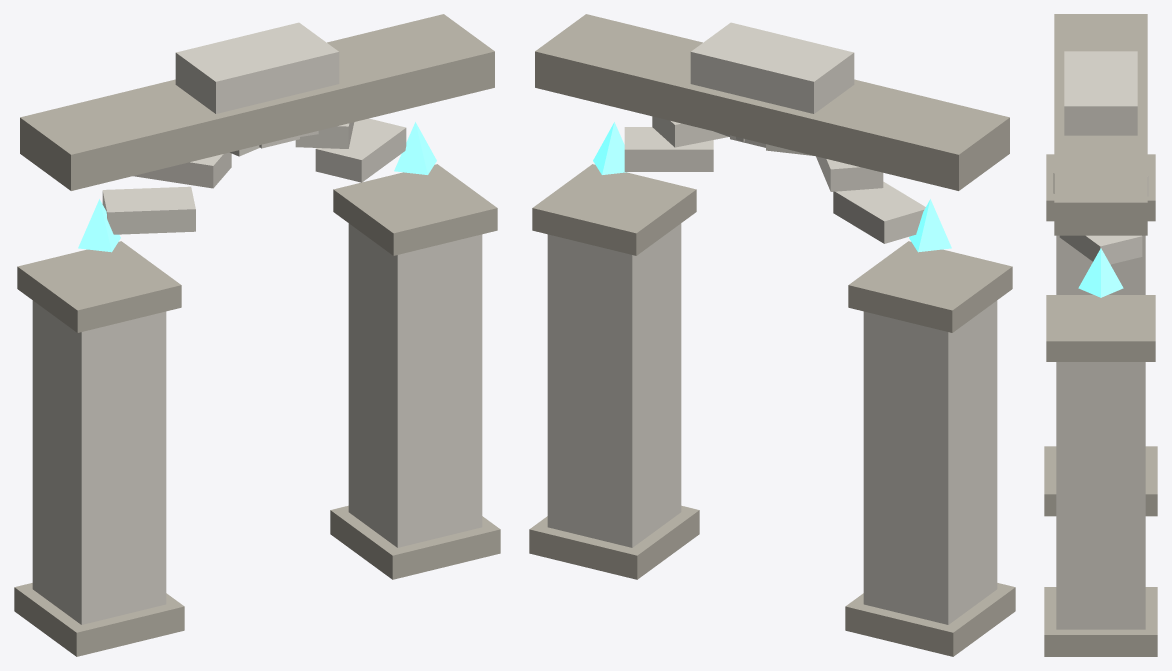
File: fantasy_arch.glb
3 renders of one model, left to right at view 1: azimuth 30°, elevation 25°; view 2: azimuth 150°, elevation 25°; view 3: azimuth 270°, elevation 25°, orthographic. The views are drawn at different scales.
Visible parts, largest first — view 1: arch_col_1, arch_col_0, arch_lintel, arch_top, arch_col_cap_1, arch_col_cap_0, arch_col_base_0, arch_col_base_1, arch_voussoir_0, arch_voussoir_5, arch_voussoir_1, arch_crystal_1 (+2 smaller); view 2: arch_col_1, arch_col_0, arch_lintel, arch_top, arch_col_cap_1, arch_col_cap_0, arch_col_base_0, arch_col_base_1, arch_voussoir_0, arch_voussoir_5, arch_voussoir_1, arch_crystal_0 (+2 smaller); view 3: arch_col_1, arch_lintel, arch_col_cap_1, arch_top, arch_col_base_1, arch_col_0, arch_col_base_0, arch_voussoir_5, arch_crystal_1, arch_col_cap_0.
Part boxes in pixels (x1,y1,x2,y2): arch_col_1: [348, 223, 482, 547]; arch_col_0: [32, 300, 166, 624]; arch_lintel: [20, 14, 494, 190]; arch_top: [175, 22, 339, 113]; arch_col_cap_1: [333, 164, 497, 255]; arch_col_cap_0: [17, 241, 181, 332]; arch_col_base_0: [14, 583, 184, 656]; arch_col_base_1: [330, 505, 500, 579]; arch_voussoir_0: [102, 186, 195, 234]; arch_voussoir_5: [315, 118, 406, 182]; arch_voussoir_1: [133, 152, 231, 188]; arch_crystal_1: [394, 122, 436, 174]; arch_col_1: [547, 223, 681, 547]; arch_col_0: [863, 300, 997, 624]; arch_lintel: [535, 14, 1009, 190]; arch_top: [690, 22, 854, 113]; arch_col_cap_1: [532, 164, 696, 255]; arch_col_cap_0: [848, 241, 1012, 332]; arch_col_base_0: [845, 583, 1015, 656]; arch_col_base_1: [529, 505, 699, 579]; arch_voussoir_0: [833, 181, 925, 243]; arch_voussoir_5: [624, 127, 713, 171]; arch_voussoir_1: [816, 156, 883, 191]; arch_crystal_0: [909, 199, 951, 252]; arch_col_1: [1056, 362, 1145, 629]; arch_lintel: [1054, 14, 1147, 235]; arch_col_cap_1: [1046, 295, 1155, 361]; arch_top: [1064, 51, 1137, 135]; arch_col_base_1: [1044, 587, 1157, 656]; arch_col_0: [1056, 235, 1145, 294]; arch_col_base_0: [1044, 446, 1157, 516]; arch_voussoir_5: [1059, 235, 1142, 264]; arch_crystal_1: [1078, 248, 1123, 297]; arch_col_cap_0: [1046, 154, 1155, 221].
Bounding box in the file's own units: 5.5 × 6.58 × 1.4.
